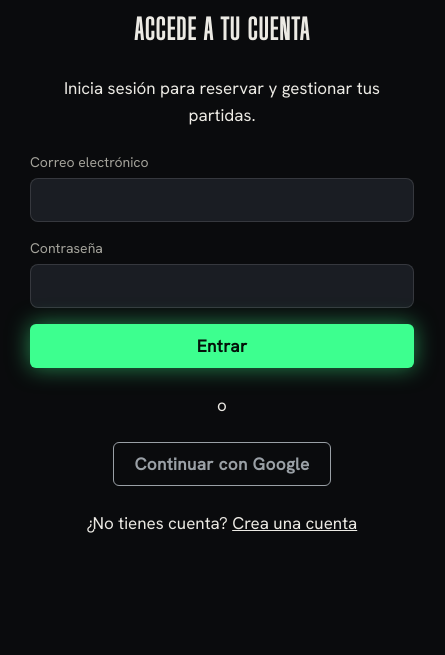
Test case: LoginPage › wrong credentials: shows the error and stays on /login
In the field labelled "Correo electrónico": (222, 200) left=30, top=178, right=414, bottom=222, type "ana@example.com"
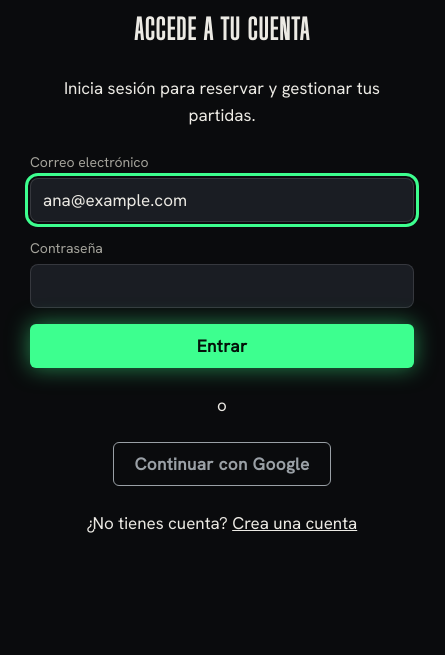
In the password field labelled "Contraseña": (222, 286) left=30, top=264, right=414, bottom=308, type "mal-puesta"
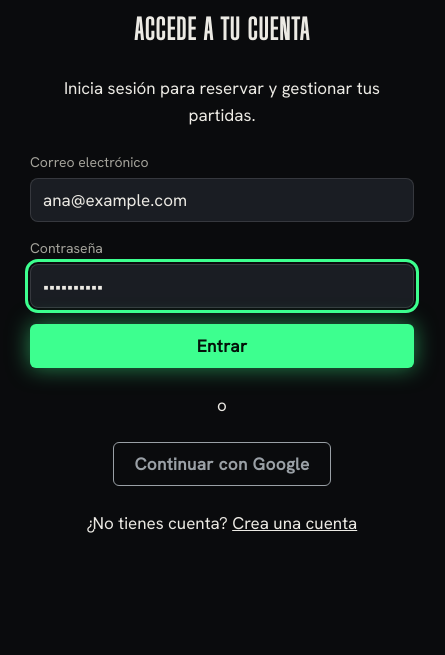
Click the button "Entrar": (222, 346) left=30, top=324, right=414, bottom=368
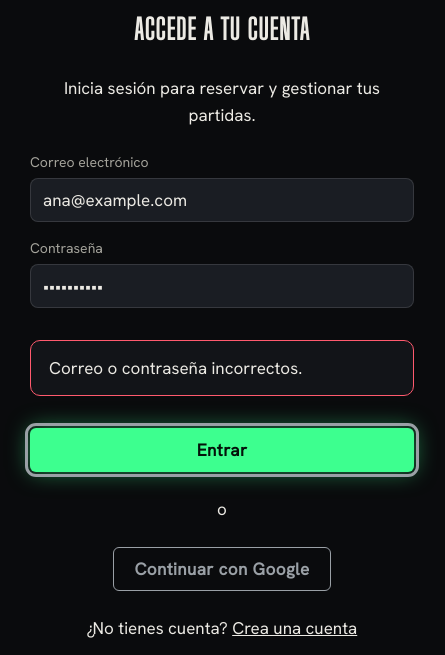
Expected: the message reads "Correo o contraseña incorrectos.", left=49, top=357, right=302, bottom=379
